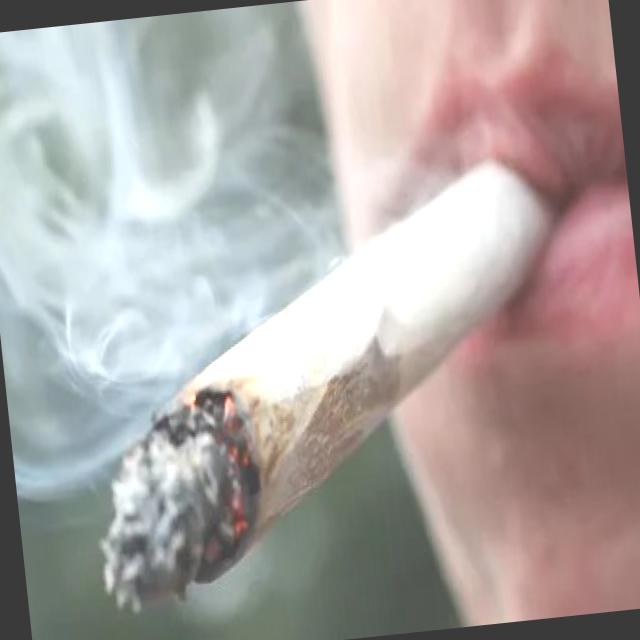smoke: (62, 139, 600, 623)
